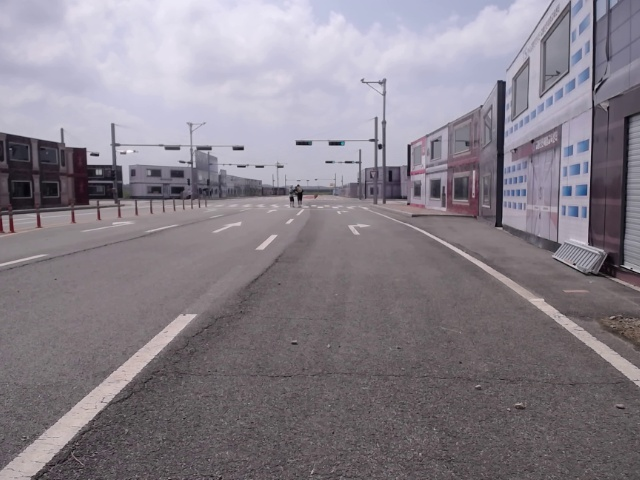straight_green_4: (329, 139, 347, 145), (295, 140, 312, 145)
